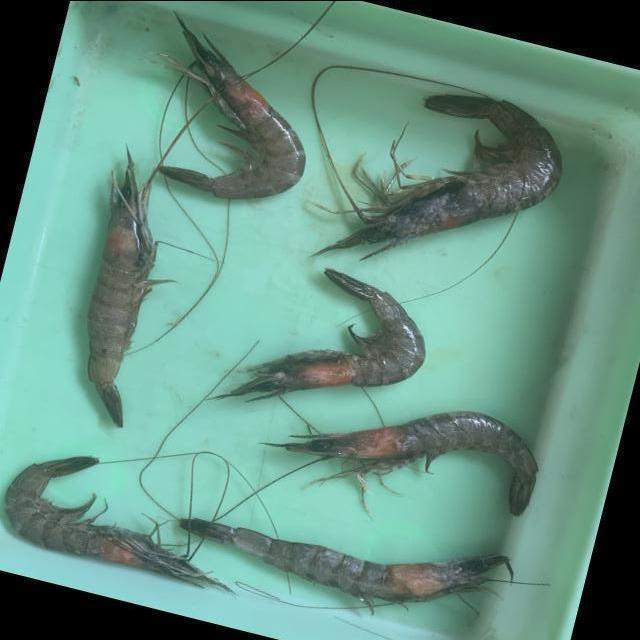shrimp: (313, 93, 562, 258), (3, 457, 231, 592), (151, 11, 305, 199), (263, 412, 538, 517), (179, 519, 515, 604), (217, 269, 426, 401), (86, 149, 172, 428)
